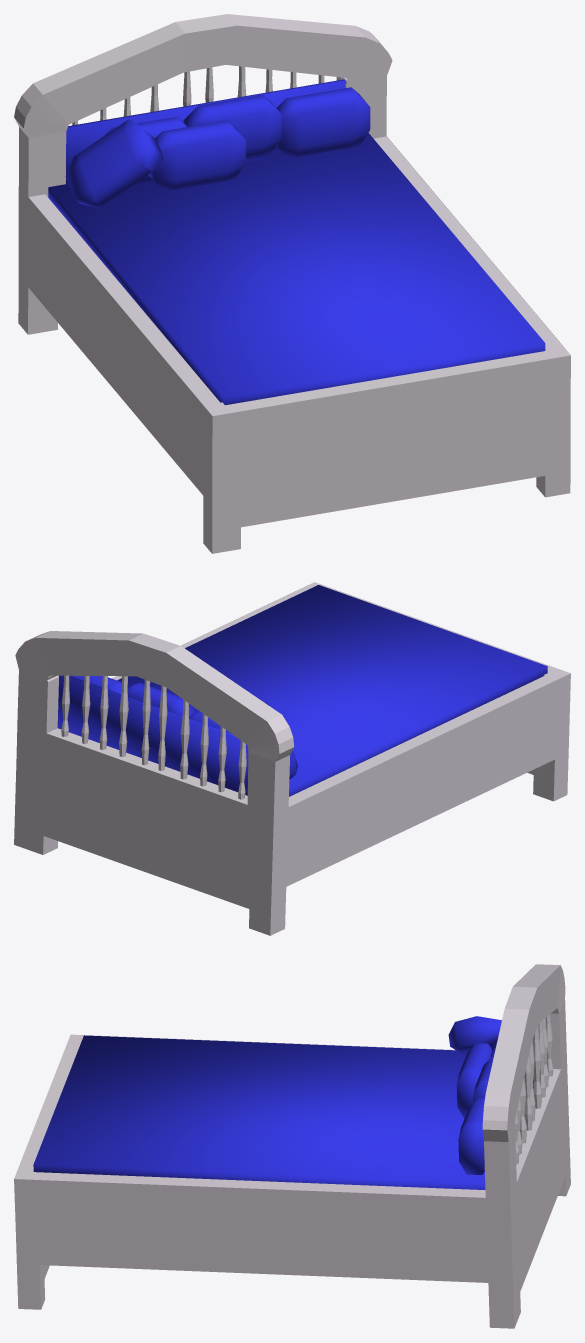
File: mybed.gltf
3 renders of one model, top to bottom at view 1: azimuth 30°, elevation 25°; view 2: azimuth 150°, elevation 25°; view 3: azimuth 270°, elevation 25°, orthographic. The views are drawn at different scales.
Parts seen in each view (by area): view 1: Bed frame; view 2: Bed frame; view 3: Bed frame.
Part boxes in pixels (left/top/right/bottom): Bed frame: left=14, top=14, right=570, bottom=553; Bed frame: left=14, top=582, right=570, bottom=935; Bed frame: left=14, top=964, right=570, bottom=1328.
Bounding box in the file's own units: 2.63 × 1.83 × 3.38.
